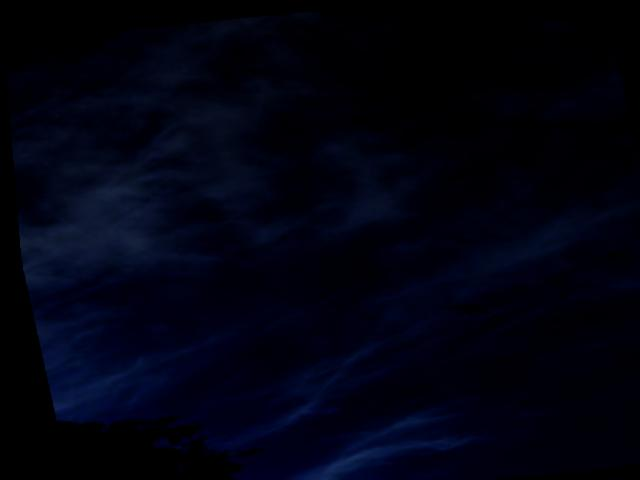bird: (441, 289, 501, 320)
